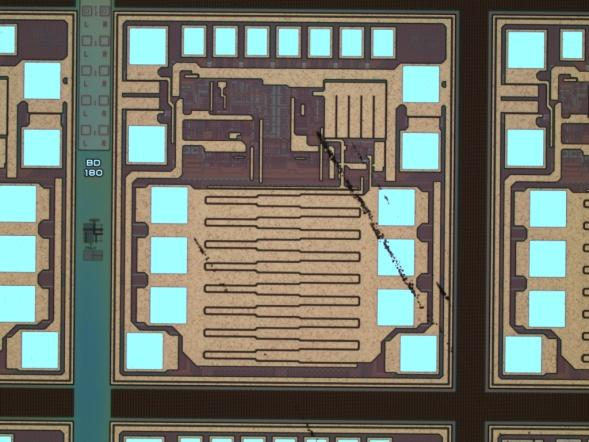SCRATCH: (185, 125, 462, 442)
